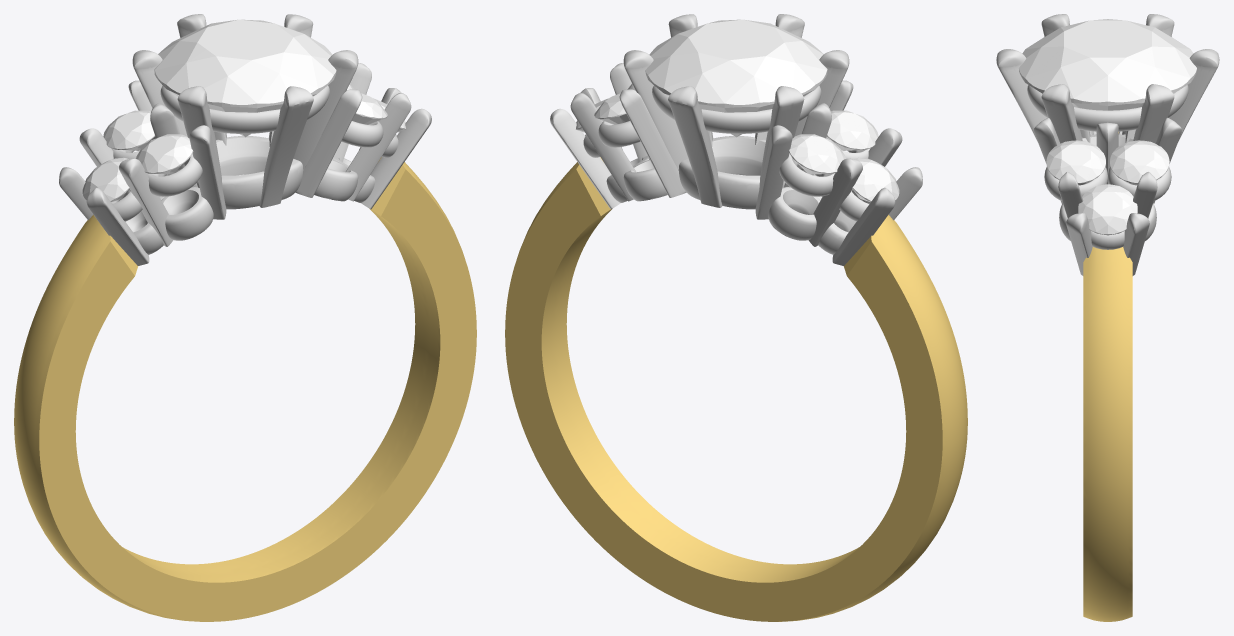
File: Kylecluster_webgi.glb
3 views of the same model, side by side, from view 1: azimuth 30°, elevation 25°; view 2: azimuth 150°, elevation 25°; view 3: azimuth 270°, elevation 25° (orthographic). The views are drawn at different scales.
Parts seen in each view (by area): view 1: Kyle_cluster_YG_for_3d_model, Kyle_cluster_PT_for_3d_model, Kyle_cluster_dia_for_3d_model006, Kyle_cluster_dia_for_3d_model004, Kyle_cluster_dia_for_3d_model005, Kyle_cluster_dia_for_3d_model003, Kyle_cluster_dia_for_3d_model001; view 2: Kyle_cluster_YG_for_3d_model, Kyle_cluster_PT_for_3d_model, Kyle_cluster_dia_for_3d_model006, Kyle_cluster_dia_for_3d_model005, Kyle_cluster_dia_for_3d_model004, Kyle_cluster_dia_for_3d_model003, Kyle_cluster_dia_for_3d_model002; view 3: Kyle_cluster_YG_for_3d_model, Kyle_cluster_PT_for_3d_model, Kyle_cluster_dia_for_3d_model006, Kyle_cluster_dia_for_3d_model, Kyle_cluster_dia_for_3d_model002, Kyle_cluster_dia_for_3d_model001.
Part boxes in pixels (x1=…): Kyle_cluster_YG_for_3d_model: x1=14, y1=157, x2=476, y2=621; Kyle_cluster_PT_for_3d_model: x1=59, y1=14, x2=431, y2=265; Kyle_cluster_dia_for_3d_model006: x1=154, y1=19, x2=336, y2=137; Kyle_cluster_dia_for_3d_model004: x1=136, y1=134, x2=193, y2=174; Kyle_cluster_dia_for_3d_model005: x1=103, y1=110, x2=154, y2=150; Kyle_cluster_dia_for_3d_model003: x1=82, y1=157, x2=129, y2=201; Kyle_cluster_dia_for_3d_model001: x1=352, y1=93, x2=387, y2=124; Kyle_cluster_YG_for_3d_model: x1=505, y1=157, x2=967, y2=621; Kyle_cluster_PT_for_3d_model: x1=550, y1=14, x2=922, y2=265; Kyle_cluster_dia_for_3d_model006: x1=645, y1=19, x2=827, y2=137; Kyle_cluster_dia_for_3d_model005: x1=788, y1=134, x2=845, y2=174; Kyle_cluster_dia_for_3d_model004: x1=827, y1=110, x2=878, y2=150; Kyle_cluster_dia_for_3d_model003: x1=852, y1=157, x2=899, y2=201; Kyle_cluster_dia_for_3d_model002: x1=594, y1=93, x2=629, y2=124; Kyle_cluster_YG_for_3d_model: x1=1083, y1=132, x2=1132, y2=621; Kyle_cluster_PT_for_3d_model: x1=996, y1=14, x2=1219, y2=275; Kyle_cluster_dia_for_3d_model006: x1=1019, y1=19, x2=1196, y2=110; Kyle_cluster_dia_for_3d_model: x1=1078, y1=184, x2=1137, y2=235; Kyle_cluster_dia_for_3d_model002: x1=1110, y1=140, x2=1169, y2=183; Kyle_cluster_dia_for_3d_model001: x1=1046, y1=140, x2=1105, y2=183.
Bounding box in the file's own units: 2.44 × 2.98 × 1.08.
